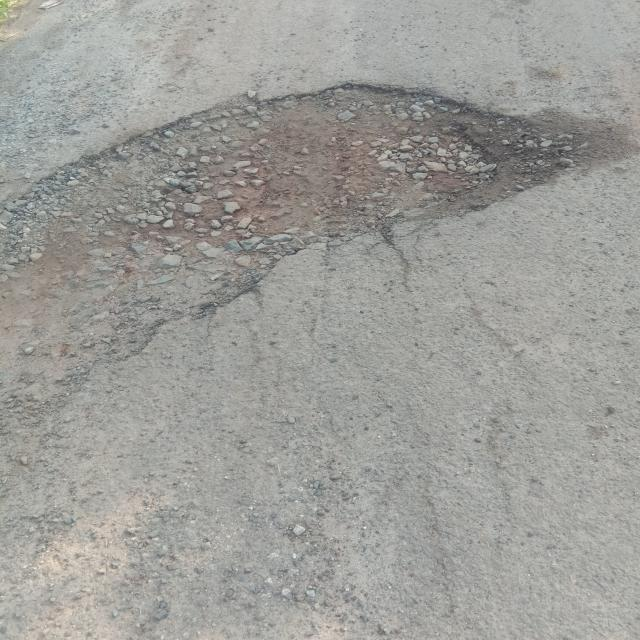potholes: (0, 78, 591, 411)
